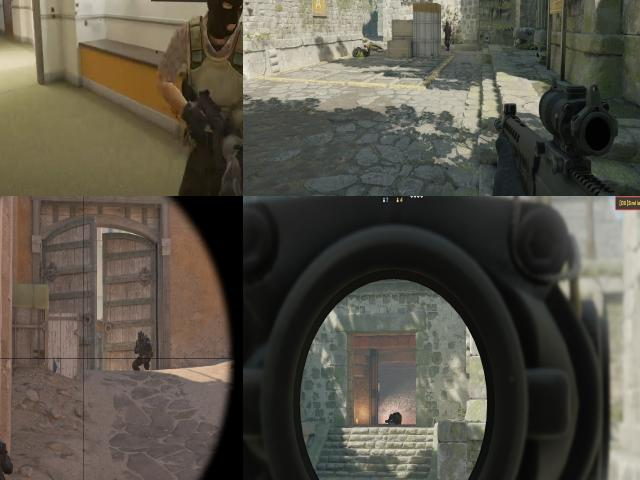CT: (133, 330, 152, 365), (0, 436, 13, 480), (440, 18, 455, 53)
CT-Head: (385, 411, 404, 430), (445, 20, 451, 31), (138, 331, 145, 338)
Dead: (347, 47, 371, 64), (364, 40, 384, 55)
T: (158, 10, 243, 152)
T-Head: (195, 0, 243, 43)
